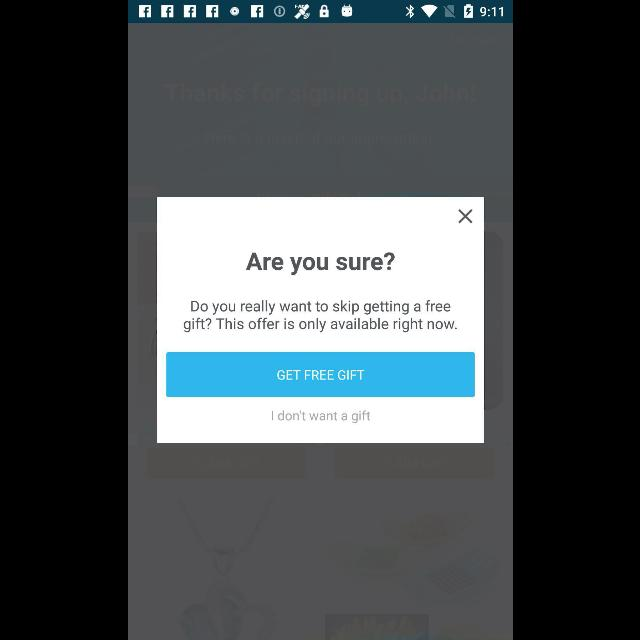icon: (458, 208, 472, 224)
panel: (156, 197, 484, 443)
text: (184, 300, 456, 332), (246, 252, 394, 276), (270, 411, 370, 424)
textbutton: (166, 352, 474, 398)
uppertaskbar: (128, 1, 512, 23)
